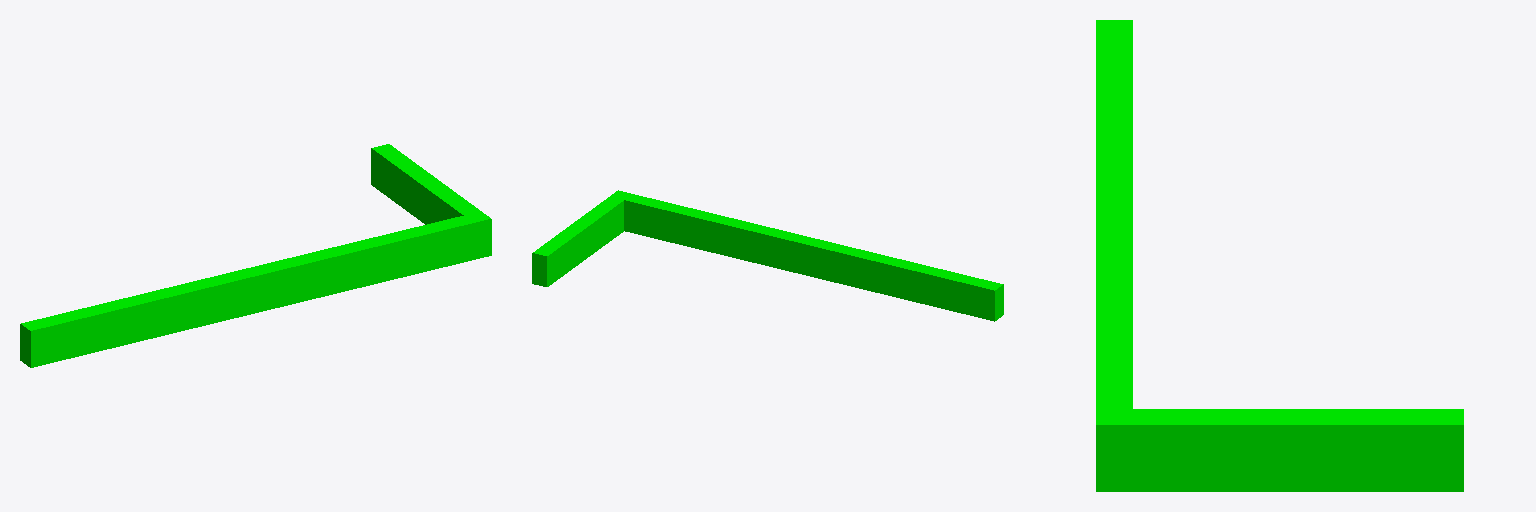
URDF robot description (hook):
<?xml version="0.0" ?>
<robot name="hook">
  <link name="handle_bar">
    <contact>
      <lateral_friction value="1"/>
      <rolling_friction value="0.0"/>
      <contact_cfm value="0.0"/>
      <contact_erp value="1.0"/>
    </contact>
    <inertial>
      <origin rpy="0 0 0" xyz="0 0 0"/>
       <mass value=".0"/>
       <inertia ixx="0.0001" ixy="0" ixz="0" iyy="0.0001" iyz="0" izz="0.0001"/>
    </inertial>
    <visual>
      <origin rpy="0 0 0" xyz="0.0 0.0 0.0"/>
      <geometry>
        <box size="0.1 0.02 0.04"/>
      </geometry>
      <material name="long_bar_texture">
        <color rgba="0. 1.0 0. 0.5" />
      </material>
    </visual>
    <!-- <collision>
      <origin rpy="0 0 0" xyz="0.0 0.0 0.0"/>
      <geometry>
        <box size="0.1 0.02 0.04"/>
      </geometry>
    </collision> -->
  </link>

  <joint name="hook_joint1" type="fixed">
    <!-- <safety_controller k_position="100.0" k_velocity="40.0" soft_lower_limit="-1.7628" soft_upper_limit="1.7628"/> -->
    <origin rpy="0 0 0" xyz="0.25 0.0 0.0"/>
    <parent link="handle_bar"/>
    <child link="long_bar"/>
  </joint>



  <link name="long_bar">
    <contact>
      <lateral_friction value="1"/>
      <rolling_friction value="0.0"/>
      <contact_cfm value="0.0"/>
      <contact_erp value="1.0"/>
    </contact>
    <inertial>
      <origin rpy="0 0 0" xyz="0 0 0"/>
       <mass value=".05"/>
       <inertia ixx="0.0001" ixy="0" ixz="0" iyy="0.0001" iyz="0" izz="0.0001"/>
    </inertial>
    <visual>
      <origin rpy="0 0 0" xyz="0.0 0.0 0.0"/>
      <geometry>
        <box size="0.4 0.02 0.04"/>
      </geometry>
      <material name="long_bar_texture">
        <color rgba="0. 1.0 0. 0.5" />
      </material>
    </visual>
    <!-- <collision>
      <origin rpy="0 0 0" xyz="0.0 0.0 0.0"/>
      <geometry>
        <box size="0.4 0.02 0.04"/>
      </geometry>
    </collision> -->
  </link>

  <joint name="hook_joint2" type="fixed">
    <!-- <safety_controller k_position="100.0" k_velocity="40.0" soft_lower_limit="-1.7628" soft_upper_limit="1.7628"/> -->
    <origin rpy="0 0 0" xyz="0.21 0.09 0.0"/>
    <parent link="long_bar"/>
    <child link="short_bar"/>
  </joint>

  <link name="short_bar">
    <contact>
      <lateral_friction value="1"/>
      <rolling_friction value="0.0"/>
      <contact_cfm value="0.0"/>
      <contact_erp value="1.0"/>
    </contact>
    <inertial>
      <origin rpy="0 0 0" xyz="0 0 0"/>
       <mass value=".05"/>
       <inertia ixx="0.0001" ixy="0" ixz="0" iyy="0.0001" iyz="0" izz="0.0001"/>
    </inertial>
    <visual>
      <origin rpy="0 0 0" xyz="0.0 0.0 0.0"/>
      <geometry>
        <box size="0.02 0.2 0.04"/>
      </geometry>
      <material name="short_bar_texture">
        <color rgba="0. 1.0 0. 0.5" />
      </material>
    </visual>
    <!-- <collision>
      <origin rpy="0 0 0" xyz="0.0 0.0 0.0"/>
      <geometry>
	 	    <box size="0.02 0.2 0.04"/>
      </geometry>
    </collision> -->

  </link>
</robot>

--- What the picture shows (computed from the rendered views, not written in the file) ---
Views: 3 orthographic renders of the robot side by side, from view 1: azimuth 30°, elevation 25°; view 2: azimuth 150°, elevation 25°; view 3: azimuth 270°, elevation 25°.
Model hook with 3 links and 2 joints (2 fixed), rooted at handle_bar, posed every joint at zero.
Links seen in each view (by area): view 1: long_bar, short_bar, handle_bar; view 2: long_bar, short_bar, handle_bar; view 3: short_bar, long_bar, handle_bar.
Boxes of the visible links, x1=… form: long_bar: x1=110, y1=216, x2=473, y2=346; short_bar: x1=371, y1=144, x2=491, y2=259; handle_bar: x1=20, y1=302, x2=118, y2=367; long_bar: x1=624, y1=194, x2=928, y2=303; short_bar: x1=532, y1=190, x2=631, y2=286; handle_bar: x1=921, y1=266, x2=1003, y2=321; short_bar: x1=1096, y1=409, x2=1463, y2=491; long_bar: x1=1096, y1=98, x2=1132, y2=408; handle_bar: x1=1096, y1=20, x2=1132, y2=97.
Size in the robot's own frame: 0.52 by 0.2 by 0.04 metres.
Geometry: primitives only (box / cylinder / sphere), no mesh files.
